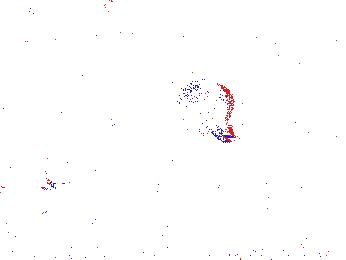flame jellyfish: (176, 77, 239, 145), (245, 160, 316, 204), (39, 157, 106, 201)
